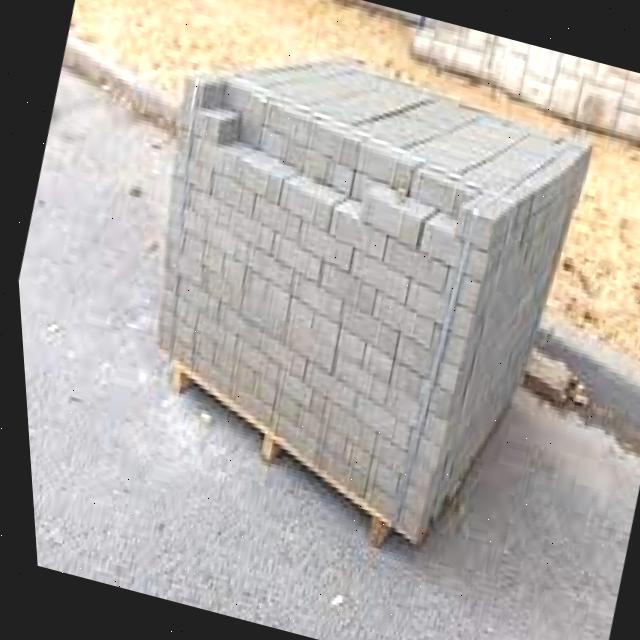bricks: (160, 60, 587, 535)
